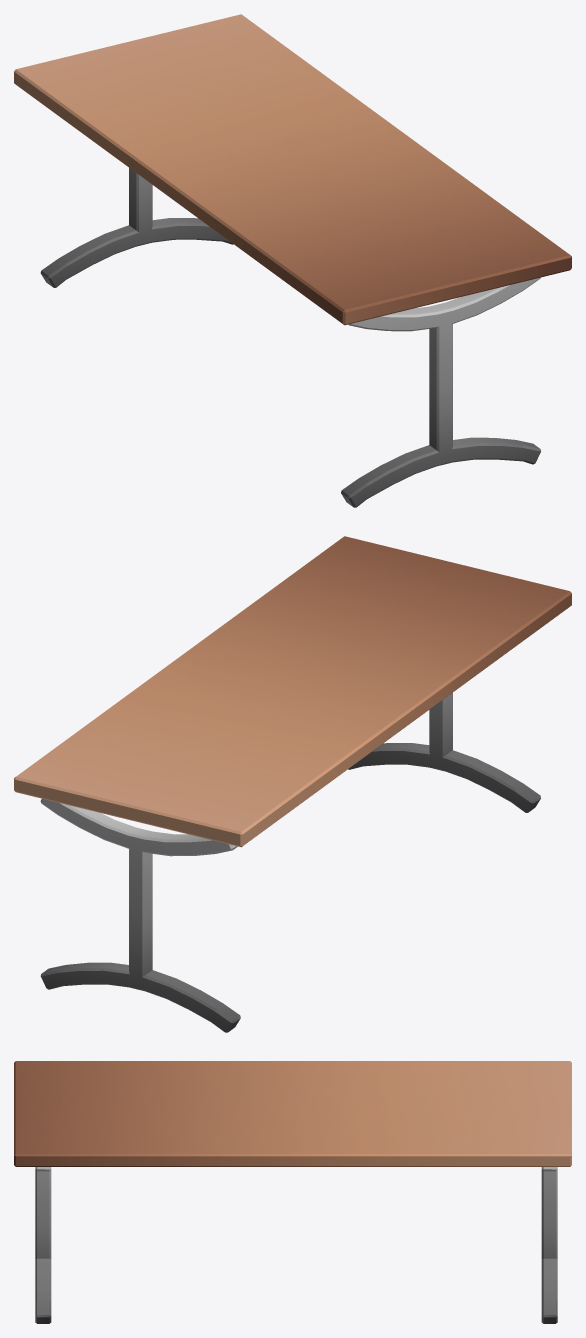
File: SM_simpleTableR.fbx
3 views of the same model, one above another, from view 1: azimuth 30°, elevation 25°; view 2: azimuth 150°, elevation 25°; view 3: azimuth 270°, elevation 25° (orthographic). The views are drawn at different scales.
Parts seen in each view (by area): view 1: table; view 2: table; view 3: table.
Boxes of the visible parts, x1,y1,x2,y2 form: table: [14, 14, 571, 507]; table: [14, 536, 571, 1032]; table: [14, 1061, 571, 1323].
Bounding box in the file's own units: 800 × 711 × 2000.
